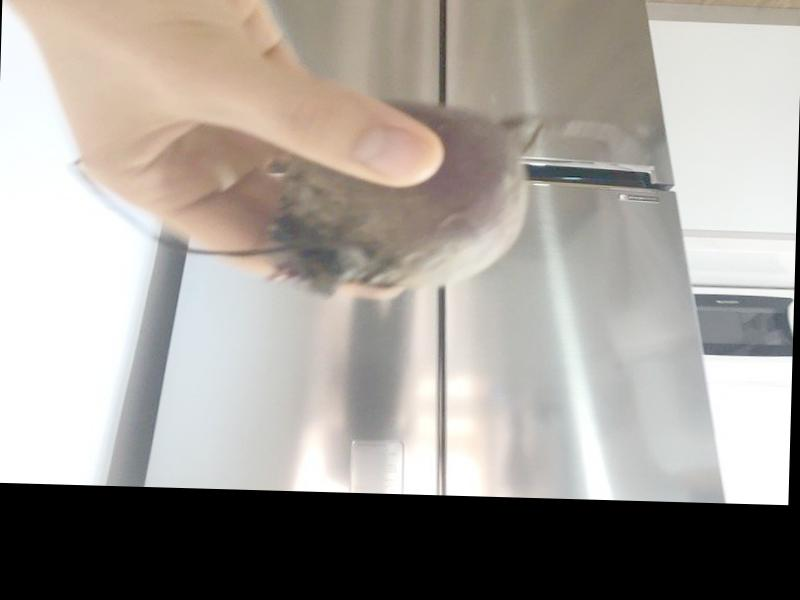Beet: (69, 93, 573, 303)
